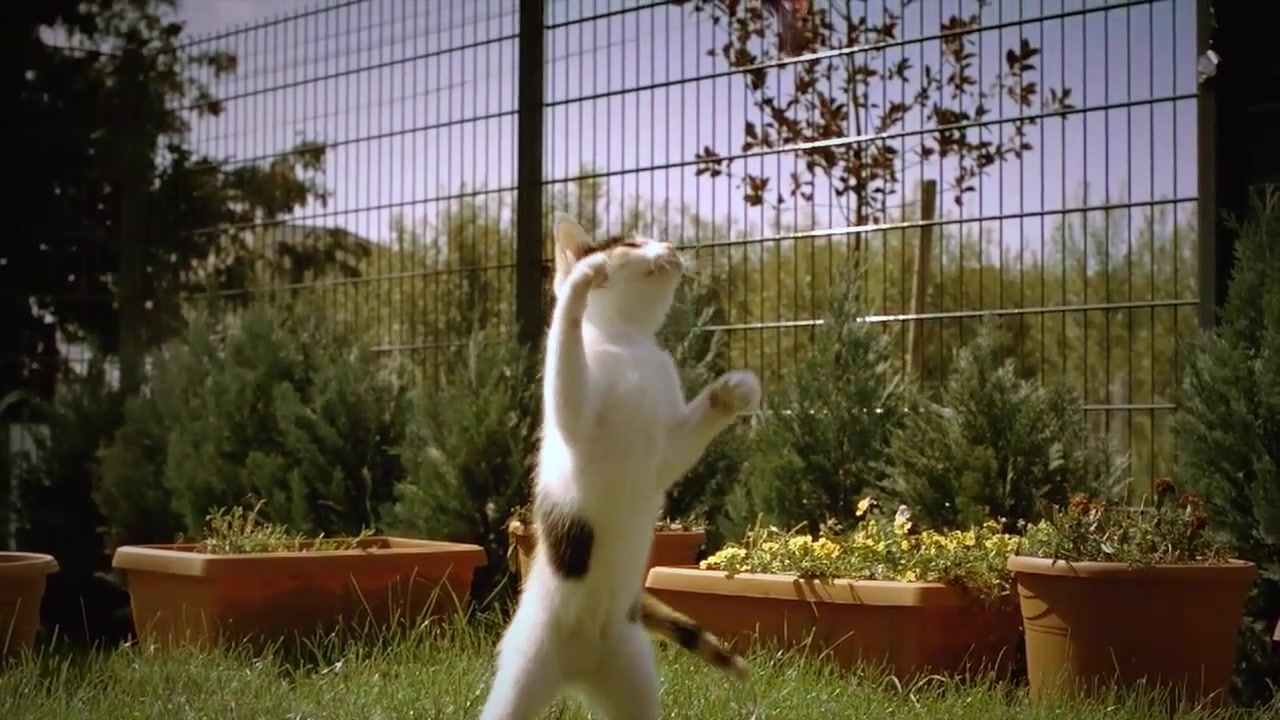cat: (476, 206, 762, 720)
